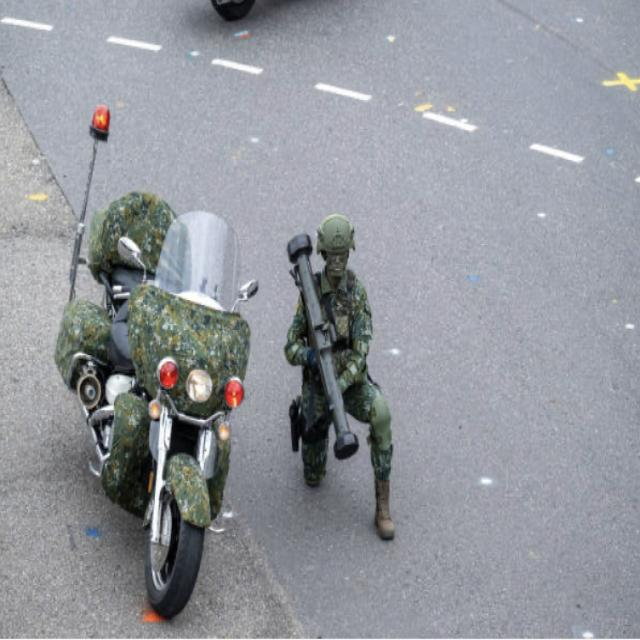bazooka: (285, 225, 365, 469)
